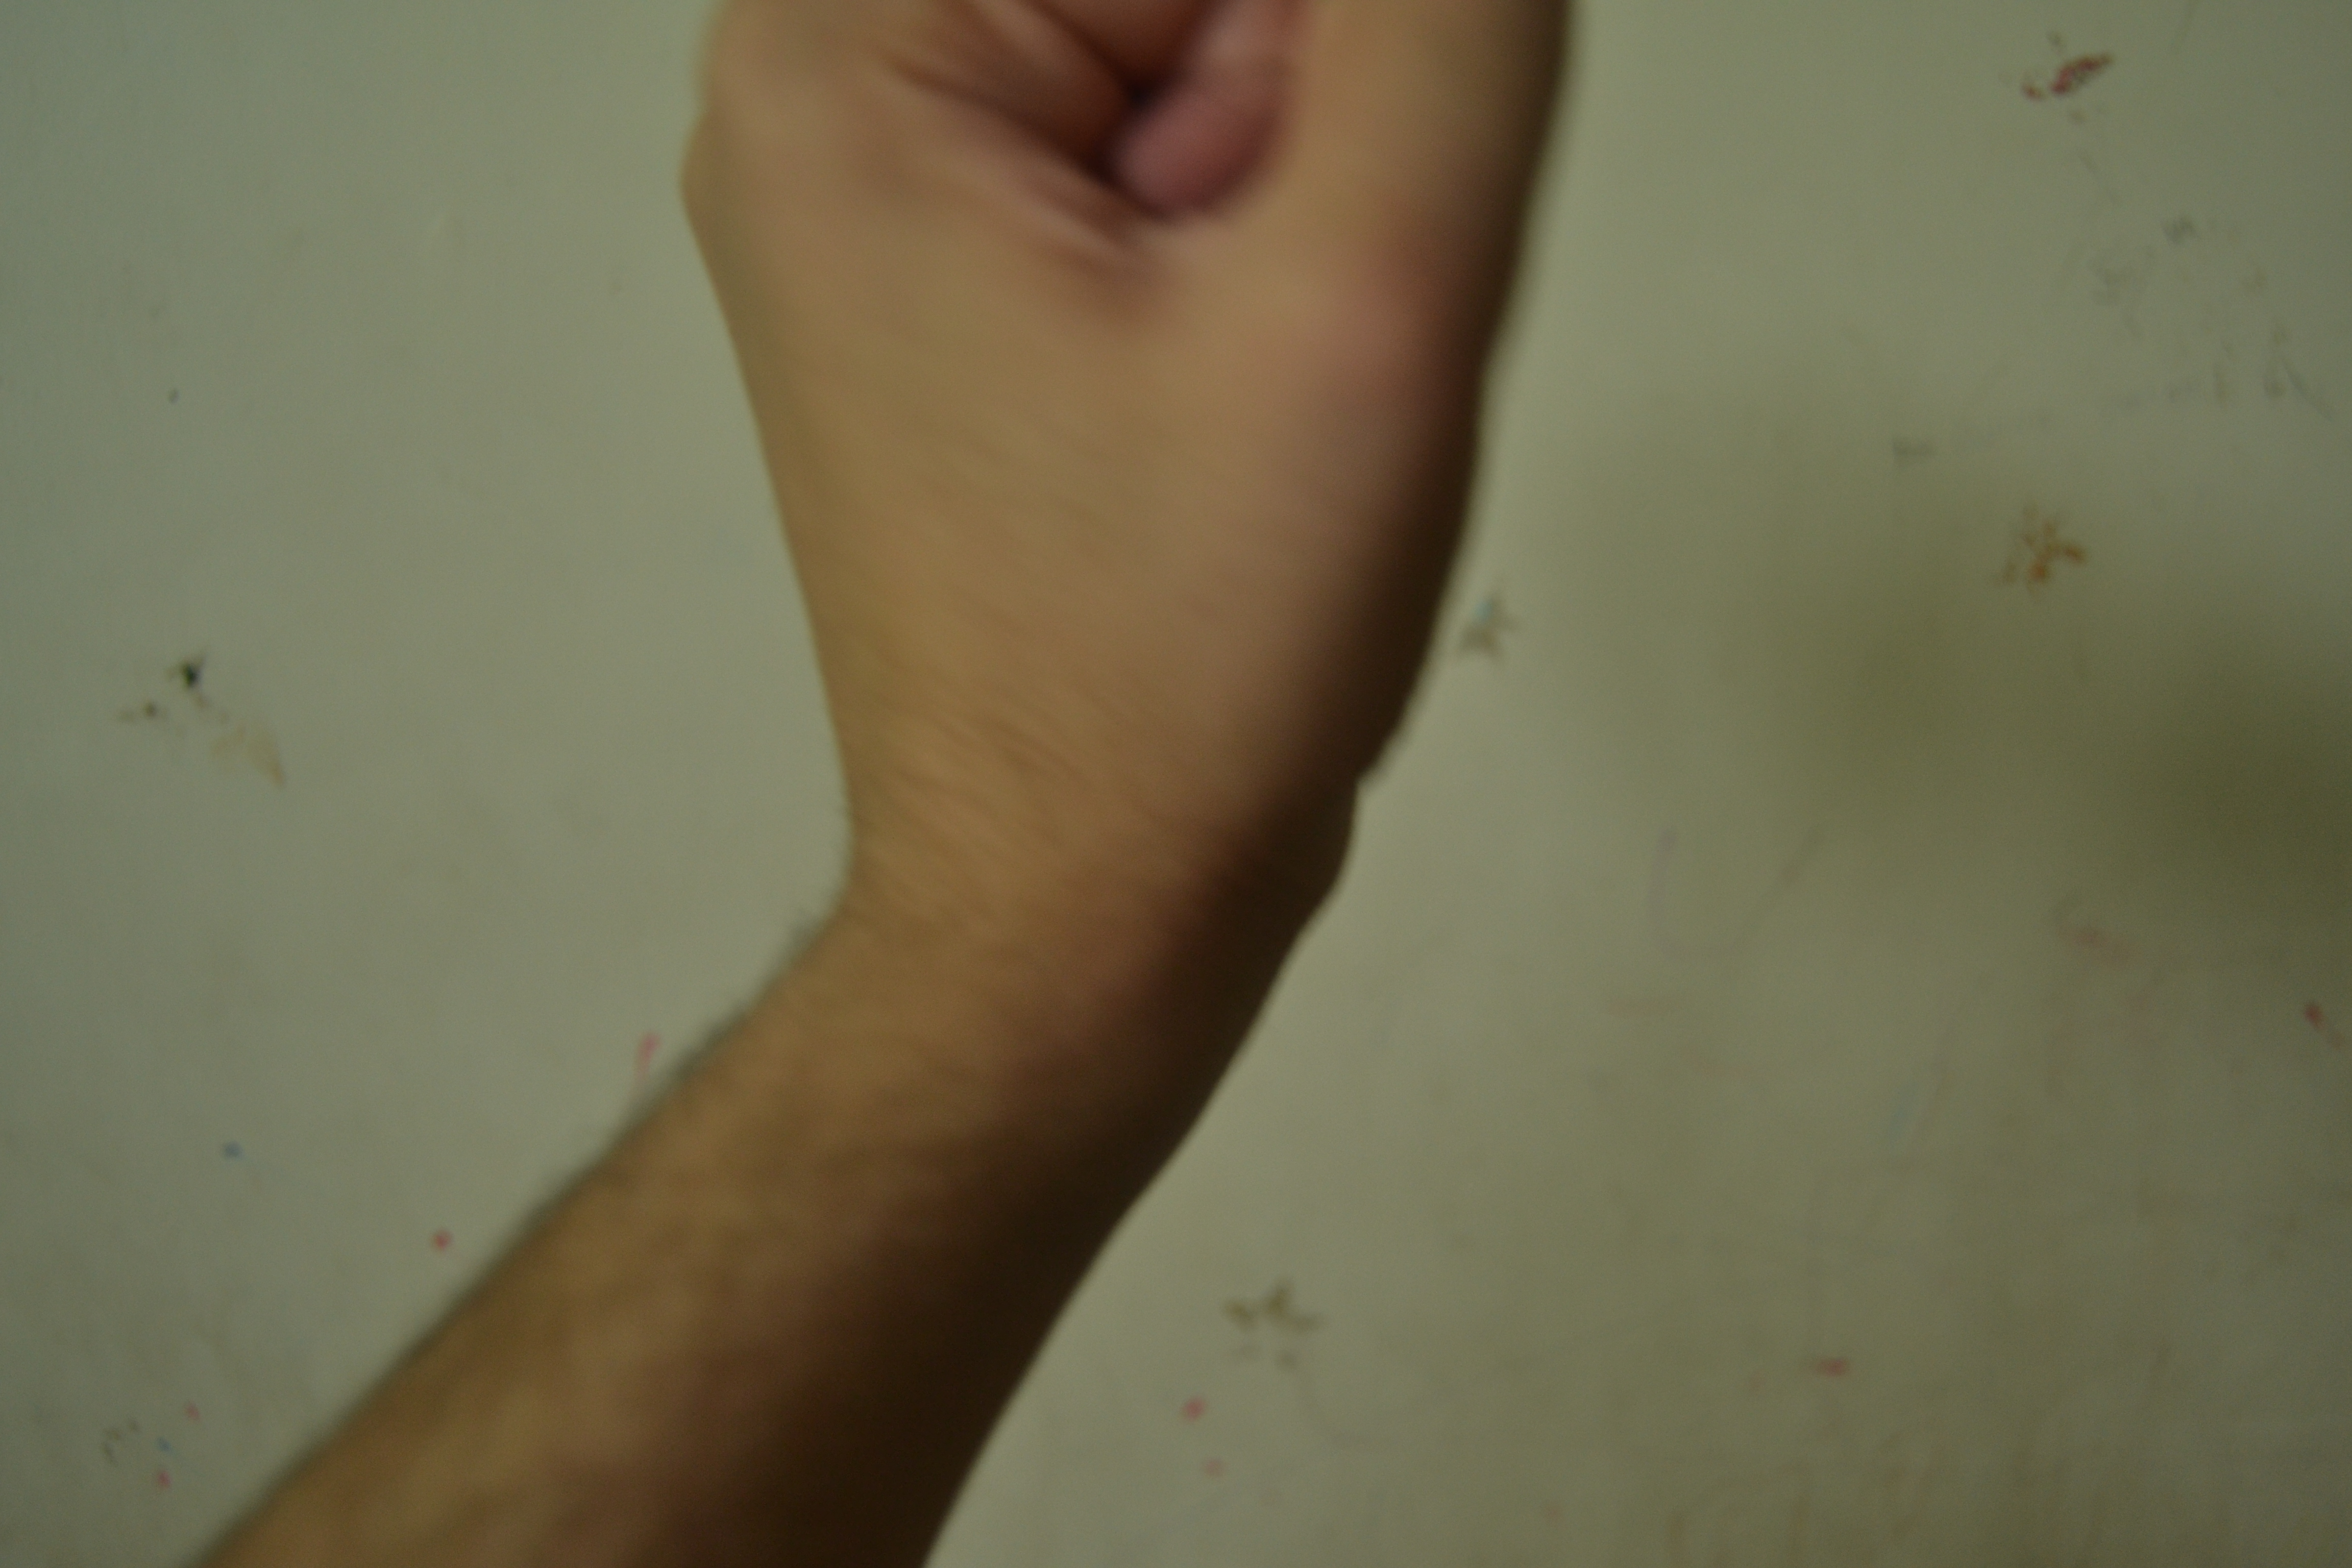click: (600, 24, 1619, 938)
